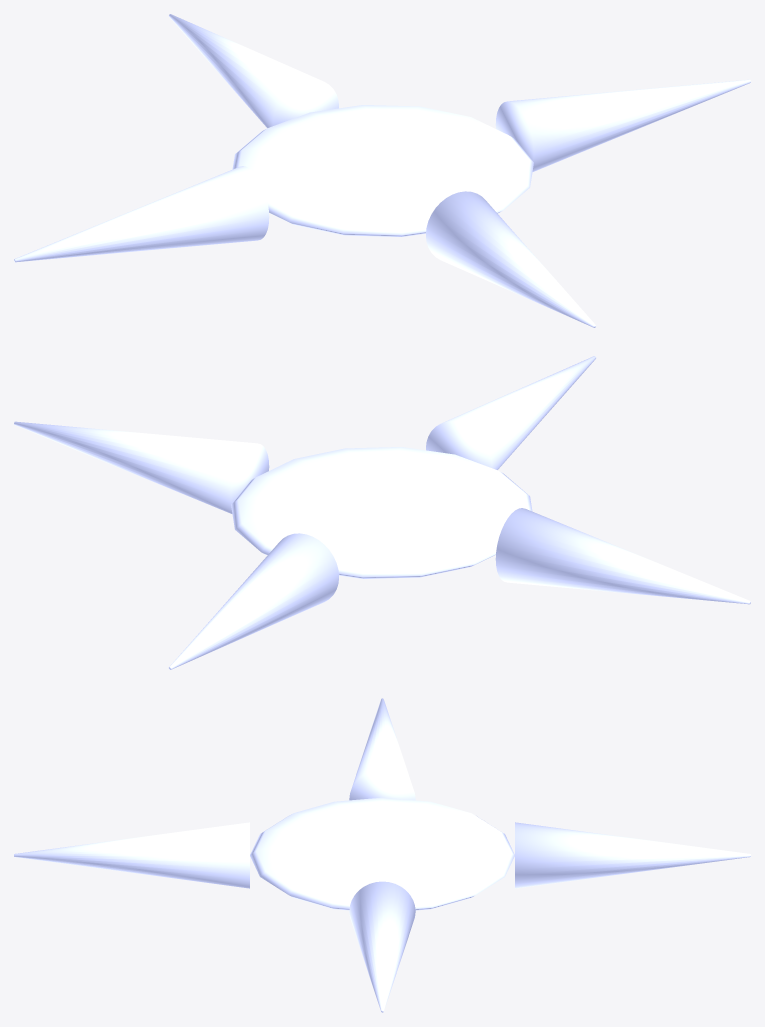
The model's file is dart_head.glb.
3 renders of one model, top to bottom at view 1: azimuth 30°, elevation 25°; view 2: azimuth 150°, elevation 25°; view 3: azimuth 270°, elevation 25°, orthographic. The views are drawn at different scales.
Parts seen in each view (by area): view 1: DartHead; view 2: DartHead; view 3: DartHead.
Part boxes in pixels (x1,y1,x2,y2): DartHead: (14,14,750,327); DartHead: (14,356,750,669); DartHead: (14,698,750,1012).
Bounding box in the file's own units: 1 × 0.09 × 1.
